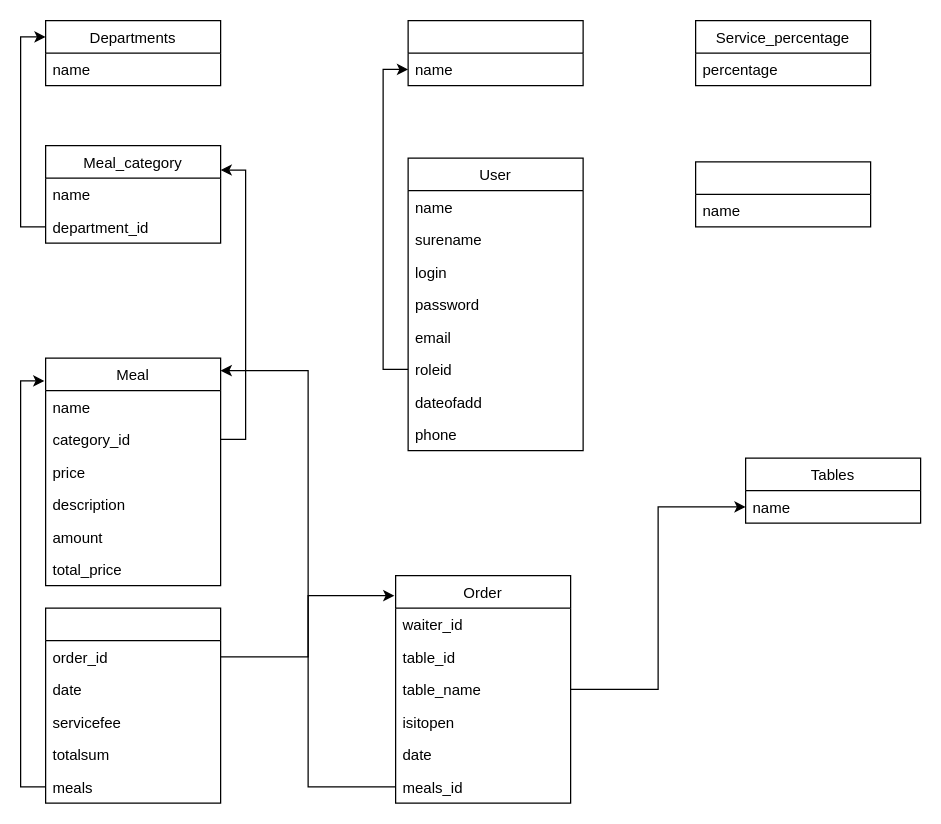
Some shapes in this 941 by 824 pixel diagram are drawn without their labels. Each missing label, with the box of its shape:
Check: (44, 607, 221, 803)
Role: (407, 19, 583, 86)
Status: (694, 161, 871, 227)
